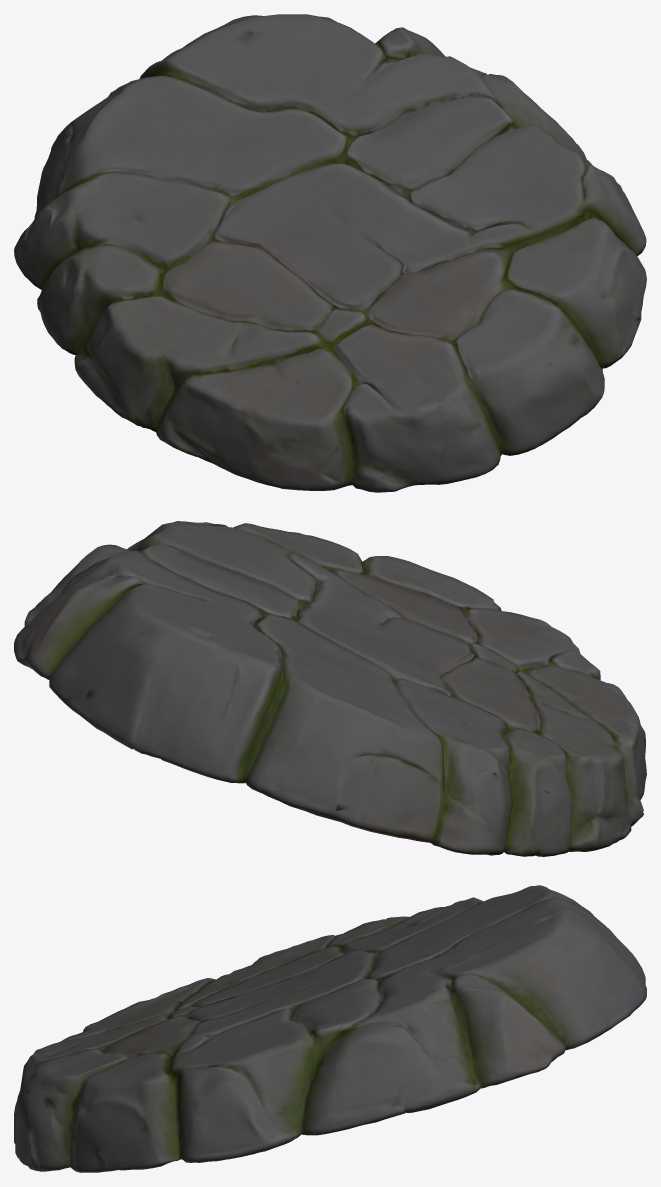
The model's file is stone_slab.glb.
3 renders of one model, top to bottom at view 1: azimuth 30°, elevation 25°; view 2: azimuth 150°, elevation 25°; view 3: azimuth 270°, elevation 25°, orthographic. The views are drawn at different scales.
Visible parts, largest first — view 1: tripo_node_da222bd4-9065-43b9-92bc-2a5ac04aec7d; view 2: tripo_node_da222bd4-9065-43b9-92bc-2a5ac04aec7d; view 3: tripo_node_da222bd4-9065-43b9-92bc-2a5ac04aec7d.
Part boxes in pixels (box(x1,y1,x2,y2)): tripo_node_da222bd4-9065-43b9-92bc-2a5ac04aec7d: box(14, 14, 646, 492); tripo_node_da222bd4-9065-43b9-92bc-2a5ac04aec7d: box(14, 521, 646, 856); tripo_node_da222bd4-9065-43b9-92bc-2a5ac04aec7d: box(14, 885, 646, 1172).
Bounding box in the file's own units: 0.8929 × 0.434 × 0.977.
1 material, 1 textured.
